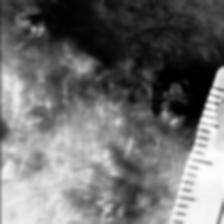Toxin: (150, 64, 204, 124)
